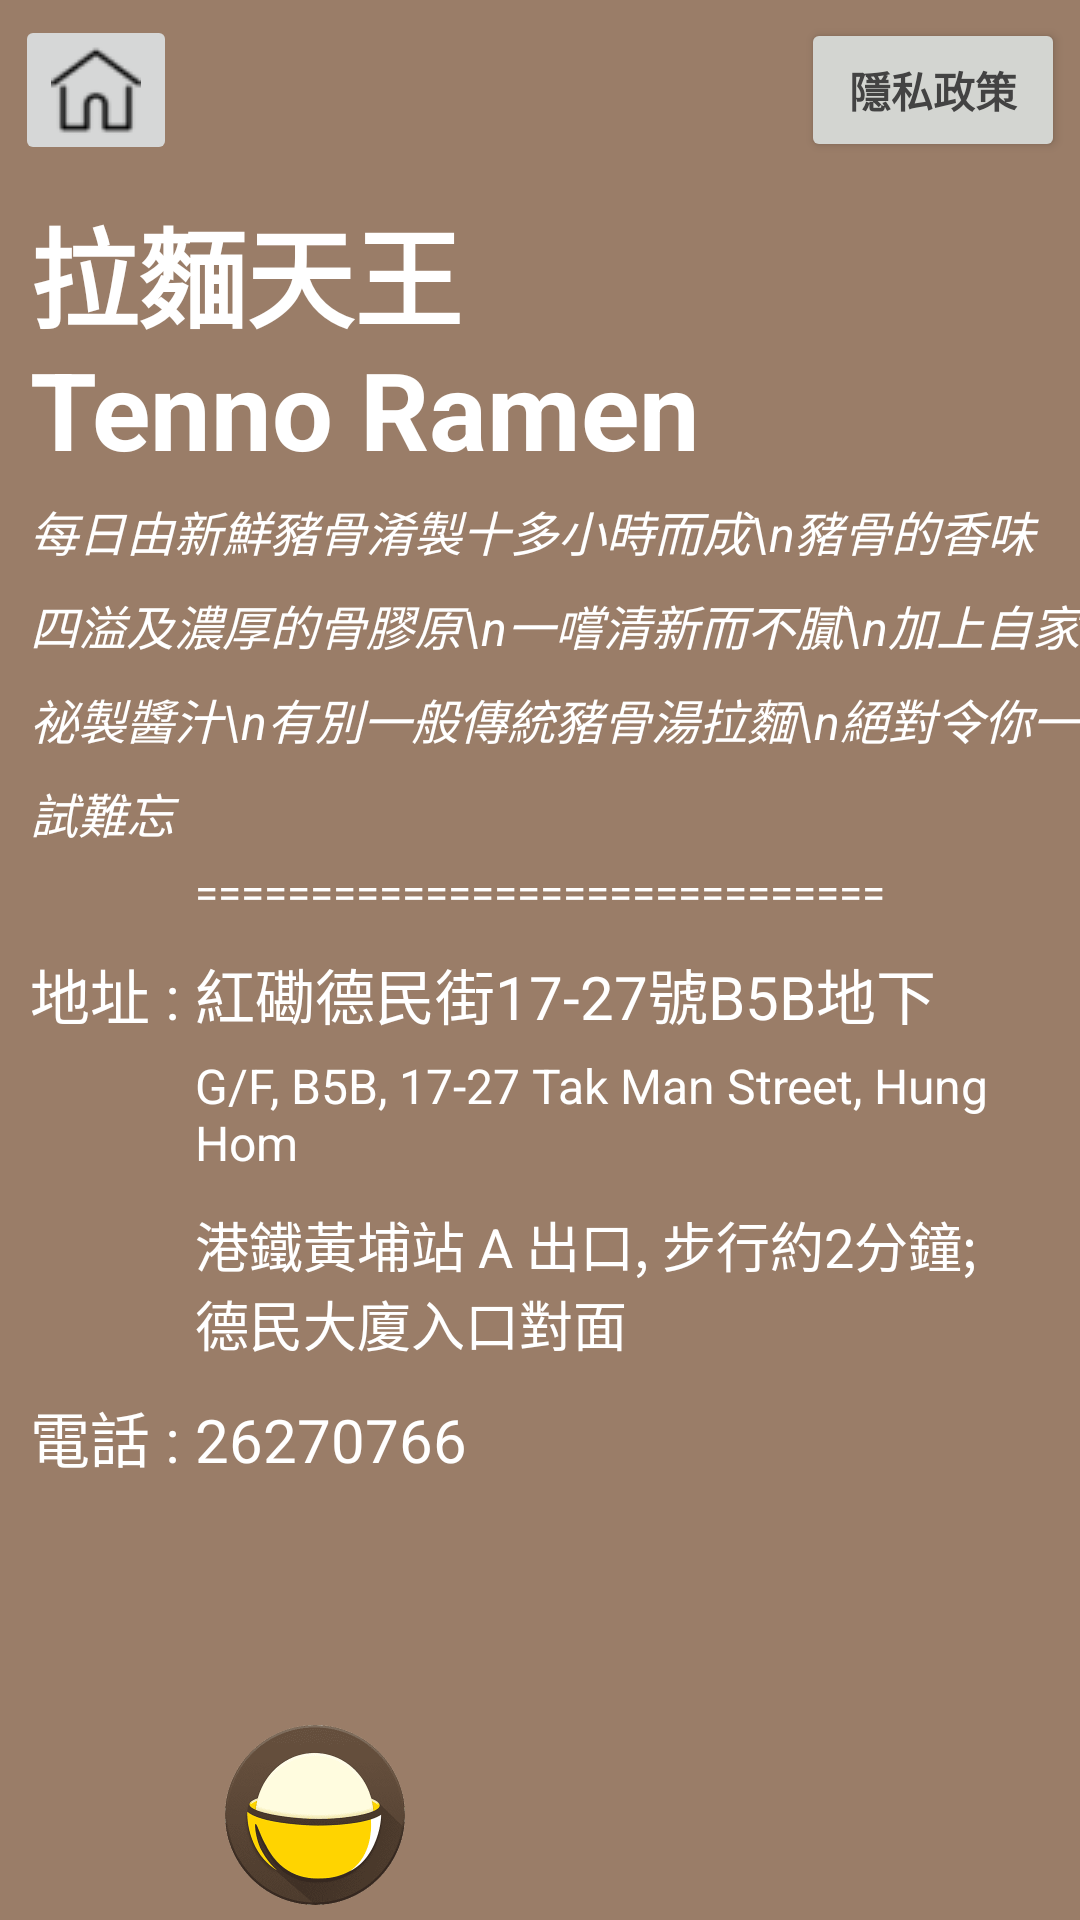

Where icons sit on this 1080px×1920px app screen, as (x1, y1, x2, y2):
homepage: (27, 33, 165, 147)
